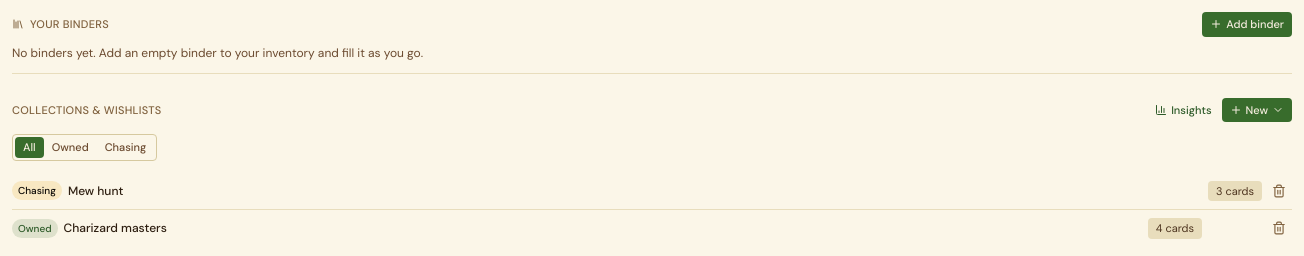
Scenario: LibraryBindersTab › filters to owned binders only
Expected: the text "Mew hunt" is shown, 68,183 -> 123,199
Click the radio button labelled "Owned" at (70, 147), box 44,137 -> 97,158
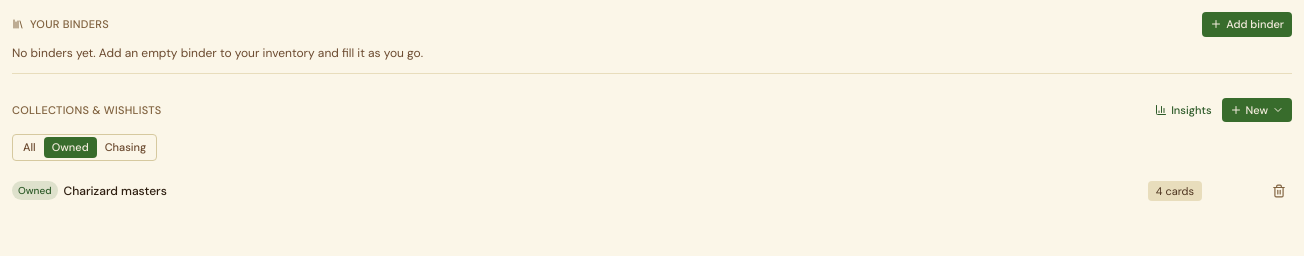
Expected: the text "Charizard masters" is shown, 64,183 -> 167,199
Now the button "Mew hunt" is gone
